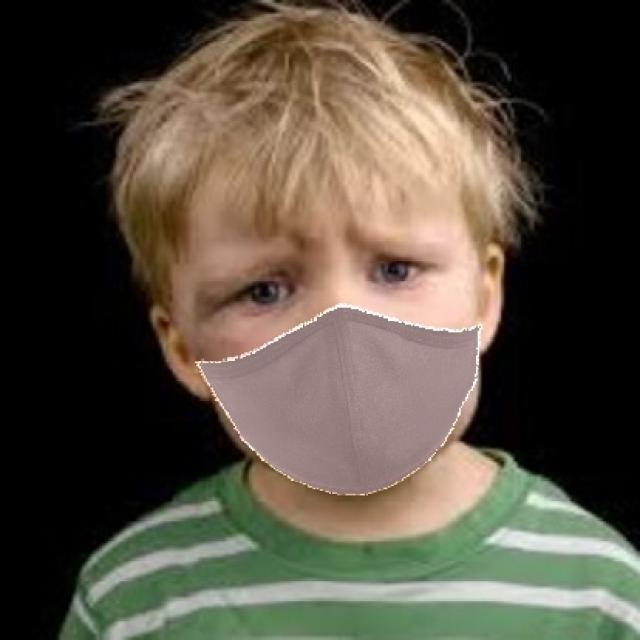mask: (195, 320, 481, 494)
